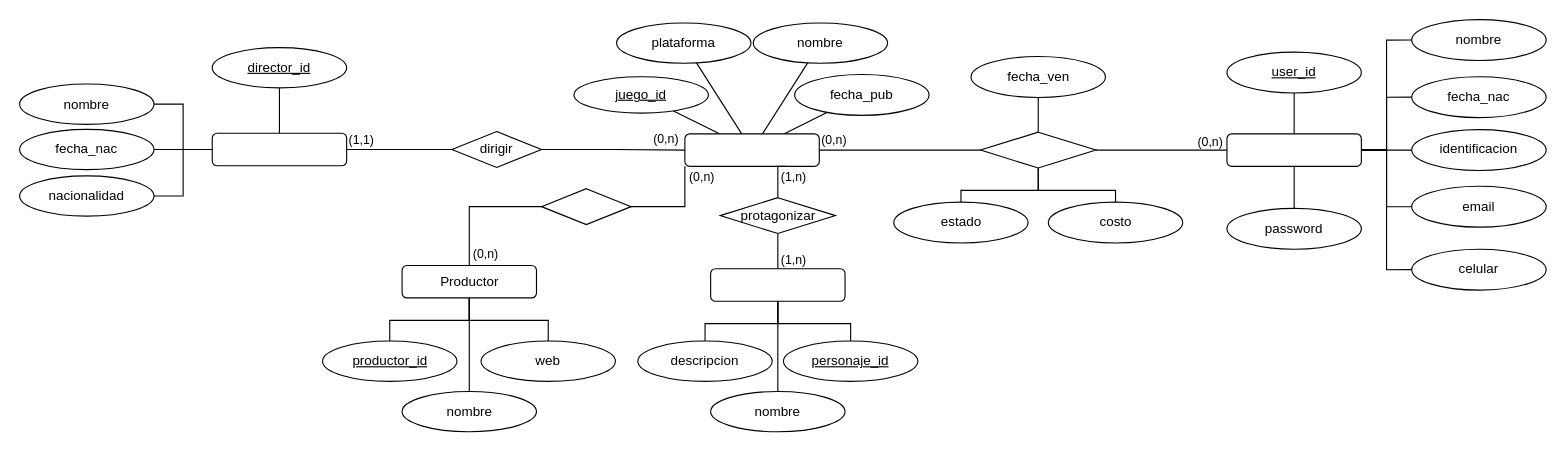
This 1566x460 diagram has some shape labels left out. Each missing label, with the centre of its shape:
Cliente: (x=1293, y=149)
Director: (x=279, y=149)
Juego: (x=751, y=149)
Personaje: (x=777, y=284)
producir: (x=585, y=206)
rentar: (x=1037, y=149)
